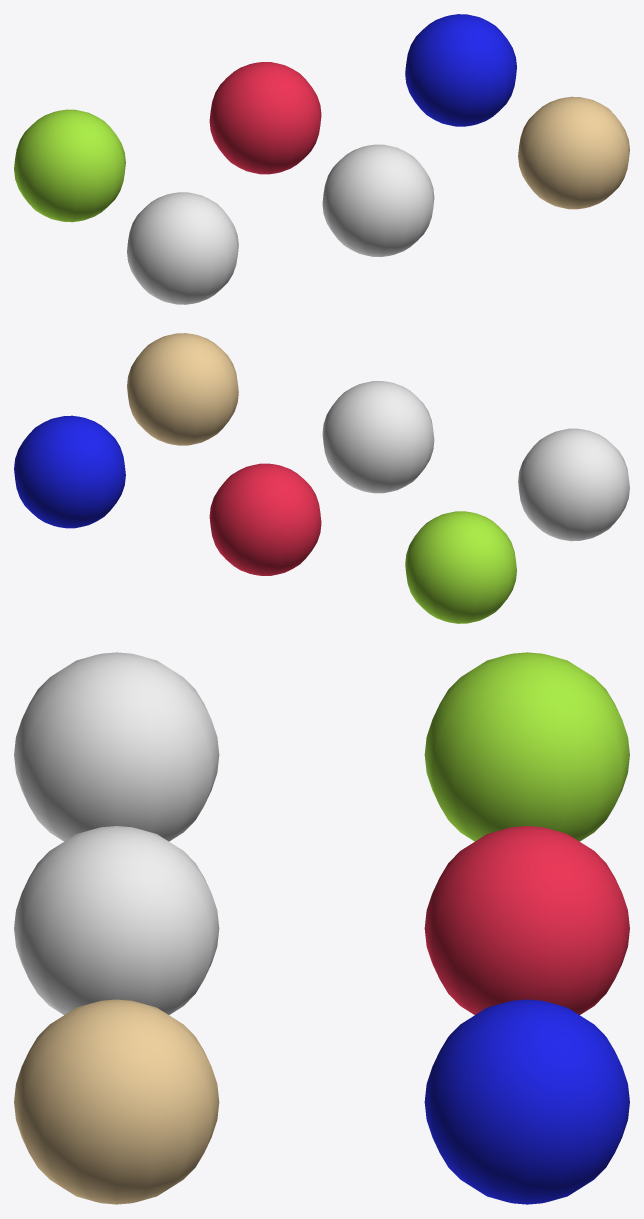
3 views of the same model, one above another, from view 1: azimuth 30°, elevation 25°; view 2: azimuth 150°, elevation 25°; view 3: azimuth 270°, elevation 25° (orthographic). The views are drawn at different scales.
Visible parts, largest first — view 1: Sphere, Sphere.005, Sphere.001, Sphere.003, Sphere.002, Sphere.004; view 2: Sphere.002, Sphere.004, Sphere.001, Sphere.003, Sphere, Sphere.005; view 3: Sphere, Sphere.004, Sphere.002, Sphere.005, Sphere.001, Sphere.003.
Part boxes in pixels (x1=…): Sphere: x1=518, y1=96, x2=629, y2=209; Sphere.005: x1=14, y1=109, x2=125, y2=222; Sphere.001: x1=322, y1=144, x2=434, y2=256; Sphere.003: x1=209, y1=62, x2=321, y2=174; Sphere.002: x1=127, y1=192, x2=238, y2=304; Sphere.004: x1=405, y1=14, x2=516, y2=126; Sphere.002: x1=518, y1=428, x2=629, y2=541; Sphere.004: x1=14, y1=415, x2=125, y2=528; Sphere.001: x1=322, y1=381, x2=434, y2=493; Sphere.003: x1=209, y1=463, x2=321, y2=575; Sphere: x1=127, y1=333, x2=238, y2=445; Sphere.005: x1=405, y1=511, x2=516, y2=623; Sphere: x1=14, y1=999, x2=219, y2=1204; Sphere.004: x1=424, y1=999, x2=629, y2=1204; Sphere.002: x1=14, y1=652, x2=219, y2=841; Sphere.005: x1=424, y1=652, x2=629, y2=841; Sphere.001: x1=14, y1=826, x2=219, y2=1014; Sphere.003: x1=424, y1=826, x2=629, y2=1014.
Size of the model in its own units: 5 by 1 by 3.
